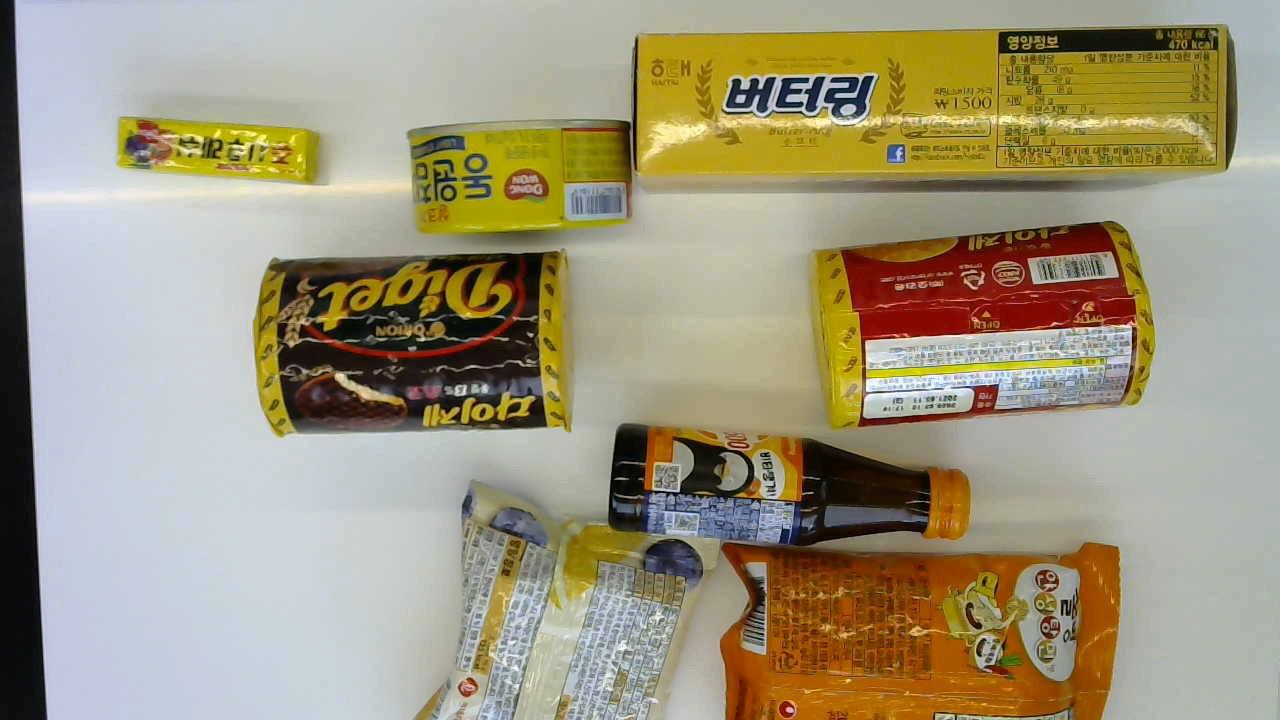buttering: (631, 30, 1235, 180)
diget_choco: (251, 253, 579, 430)
diget_ori: (808, 219, 1158, 423)
gumi_gumi: (401, 483, 710, 720)
jjolbyung_noodle: (725, 540, 1130, 720)
juicyfresh: (114, 112, 319, 193)
tuna: (403, 114, 641, 233)
vita500: (605, 420, 969, 549)
